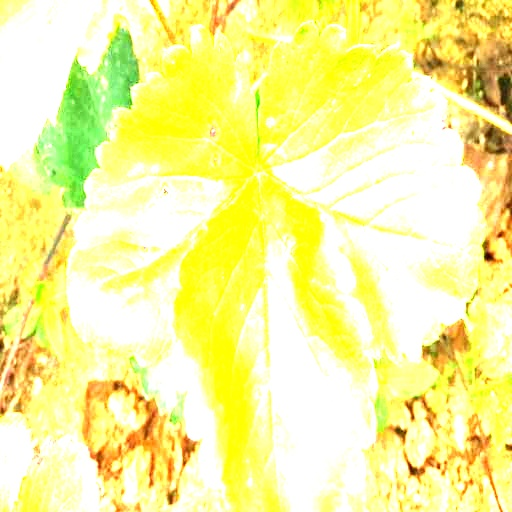Leaf Spot: (255, 20, 487, 364), (172, 171, 379, 511), (66, 24, 257, 366)
